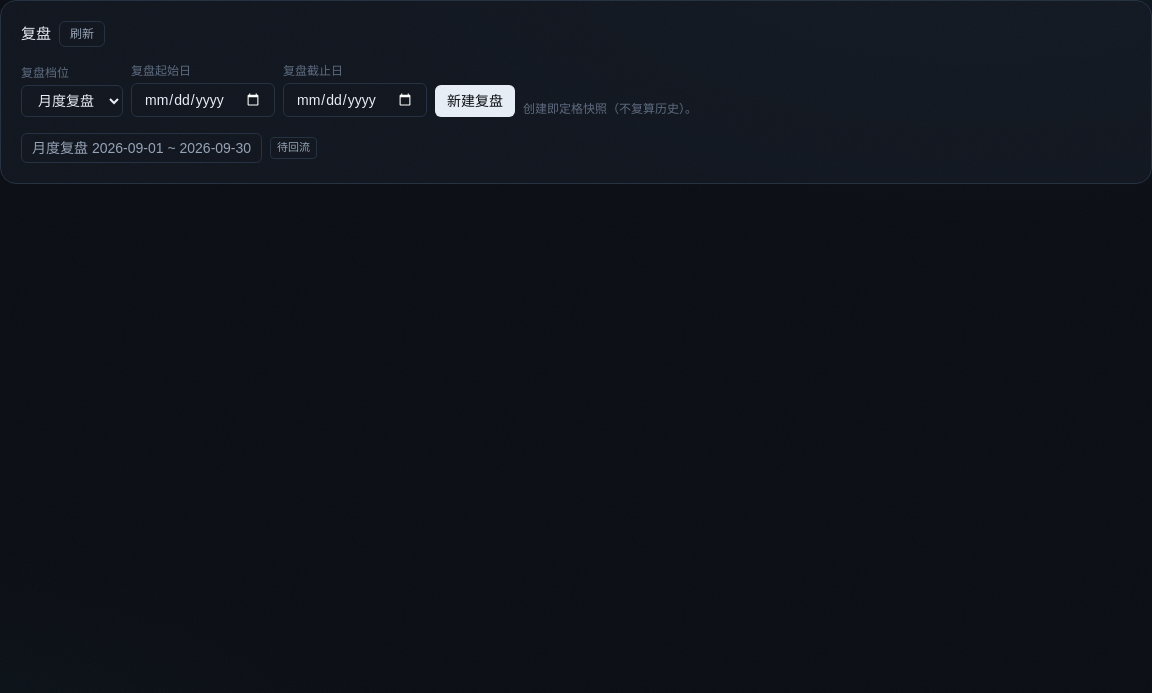
Test: ReviewForm 快照对照（auto/override 双列） › 4.3 纪律遵守度旁显「本期越过 N 次」（GET checks 按复盘区间过滤统计）
Step 1. Click the button "月度复盘 2026-09-01 ~ 2026-09-30" → point(142, 148), box [21, 133, 262, 163]
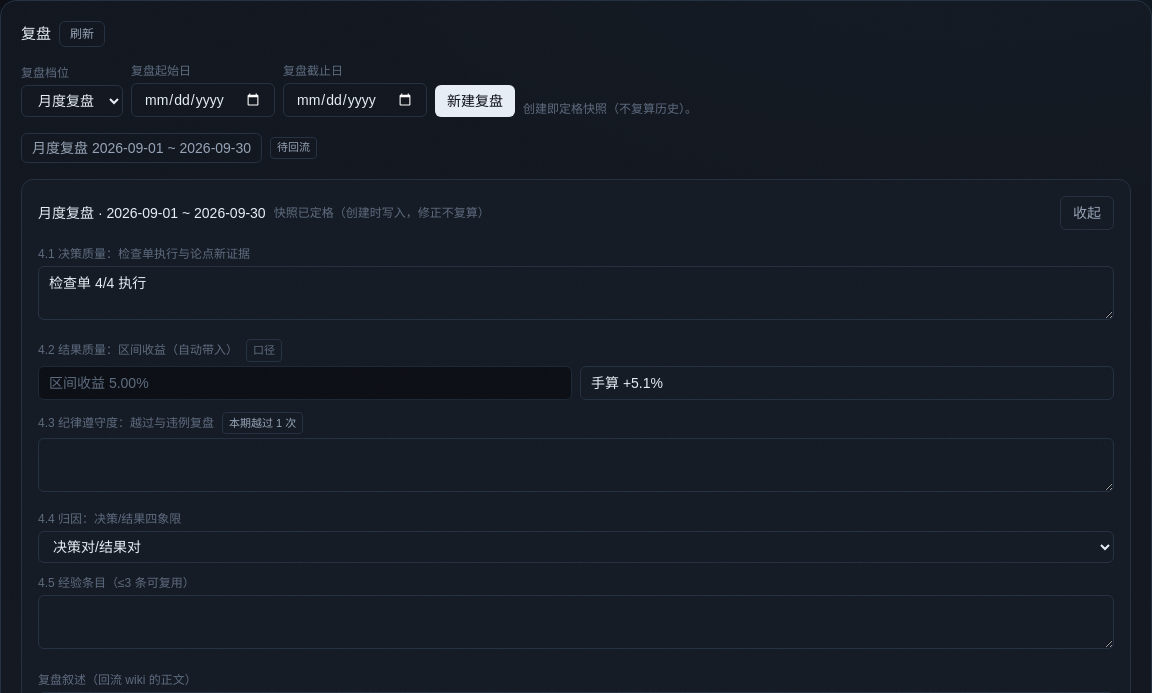
Now the text "区间收益 5.00%" is shown, box [38, 366, 572, 400]
Now the text "本期越过 1 次" is shown, box [222, 412, 303, 434]
